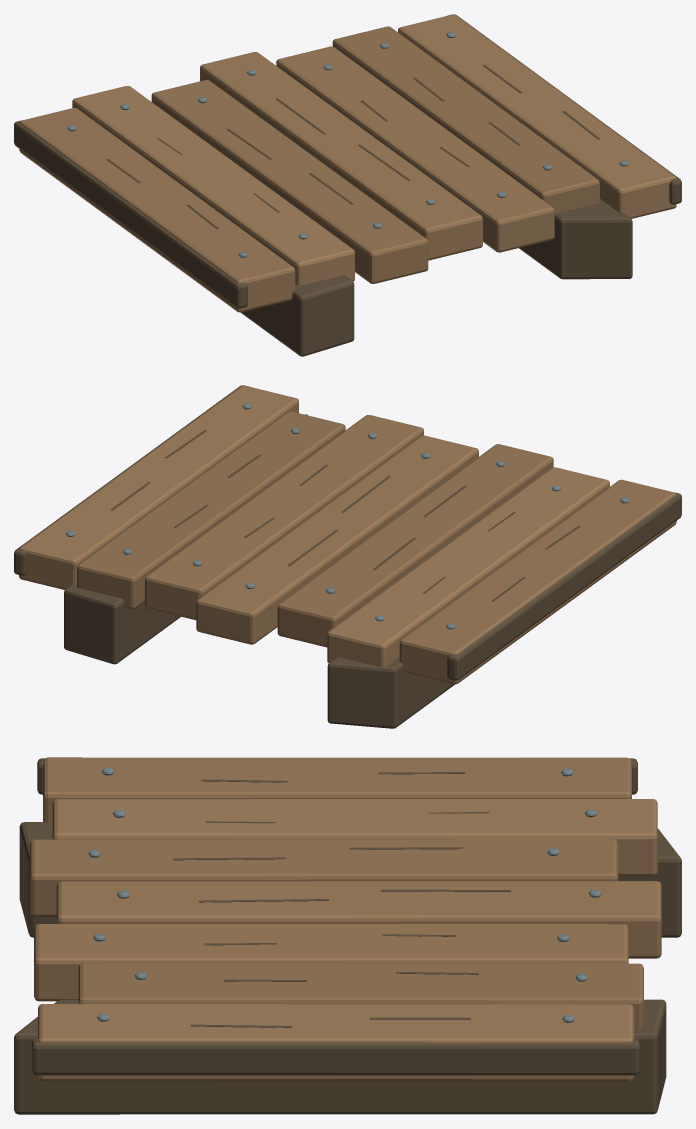
The model's file is deck-intact-2.glb.
3 views of the same model, one above another, from view 1: azimuth 30°, elevation 25°; view 2: azimuth 150°, elevation 25°; view 3: azimuth 270°, elevation 25° (orthographic). The views are drawn at different scales.
Parts seen in each view (by area): view 1: GEO-deck-intact-378.005, GEO-deck-intact-972.005, GEO-deck-intact-1148.005; view 2: GEO-deck-intact-378.005, GEO-deck-intact-972.005, GEO-deck-intact-1148.005; view 3: GEO-deck-intact-378.005, GEO-deck-intact-972.005, GEO-deck-intact-1148.005.
Part boxes in pixels (<box>): GEO-deck-intact-378.005: <box>19,14,676,312</box>; GEO-deck-intact-972.005: <box>14,14,681,356</box>; GEO-deck-intact-1148.005: <box>67,32,628,257</box>; GEO-deck-intact-378.005: <box>19,385,676,684</box>; GEO-deck-intact-972.005: <box>14,385,681,728</box>; GEO-deck-intact-1148.005: <box>66,403,629,629</box>; GEO-deck-intact-378.005: <box>30,757,661,1081</box>; GEO-deck-intact-972.005: <box>14,758,681,1114</box>; GEO-deck-intact-1148.005: <box>88,767,601,1022</box>.
Bounding box in the file's own units: 2.28 × 0.4391 × 2.23.
